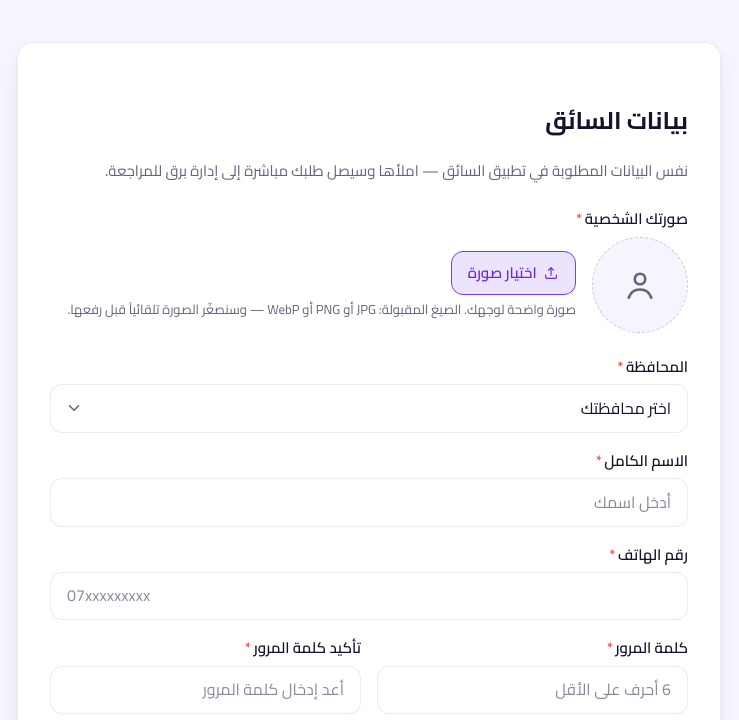
Test: the driver apply page › refuses to submit without a photo, and says so
(page scrolled)
Select "النجف" in the dropdown labelled "المحافظة*": point(369, 408) 50,384 -> 688,433
In the field labelled "الاسم الكامل*": point(369, 502) 50,478 -> 688,526, type "علي محمد"
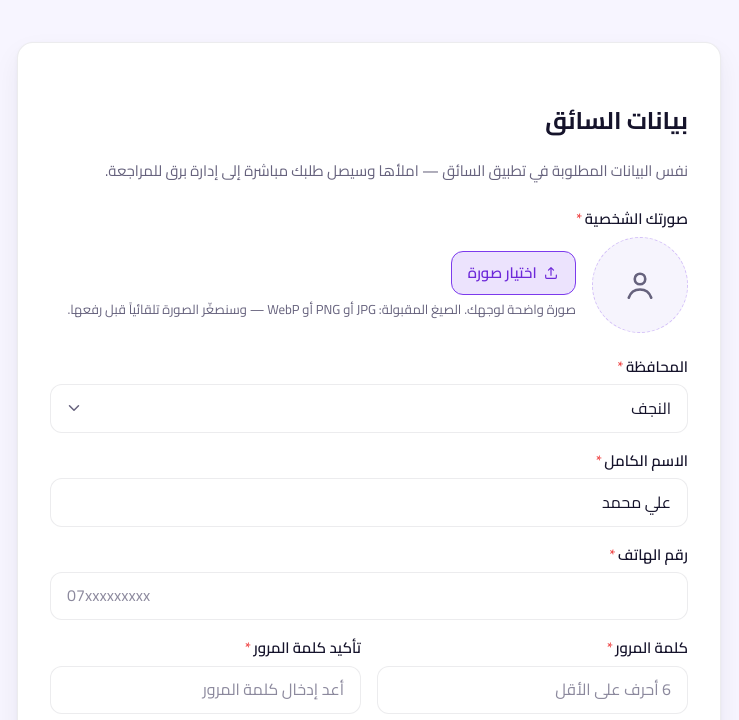
In the field labelled "رقم الهاتف*": point(369, 596) 50,572 -> 688,620, type "07712345678"
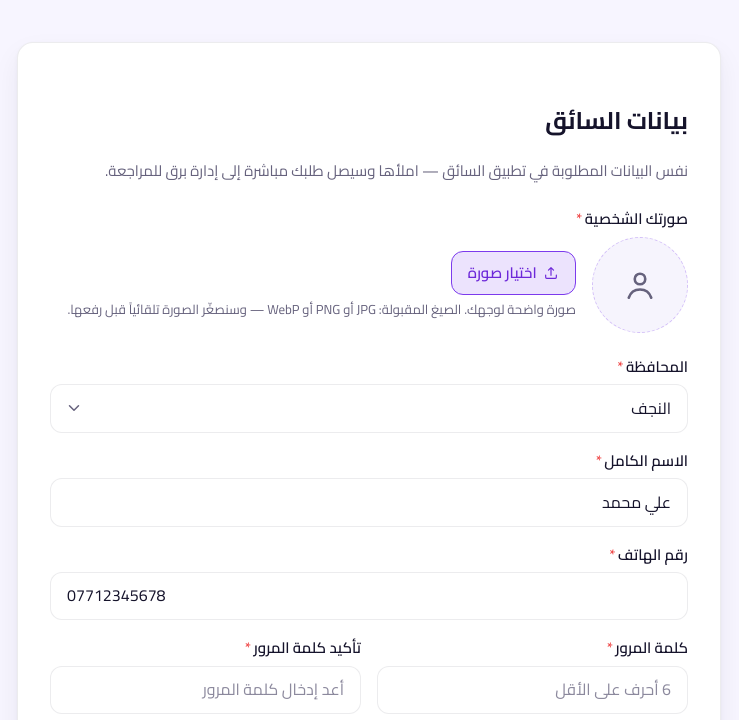
In the password field labelled "كلمة المرور*": point(532, 690) 377,666 -> 688,714, type "secret123"
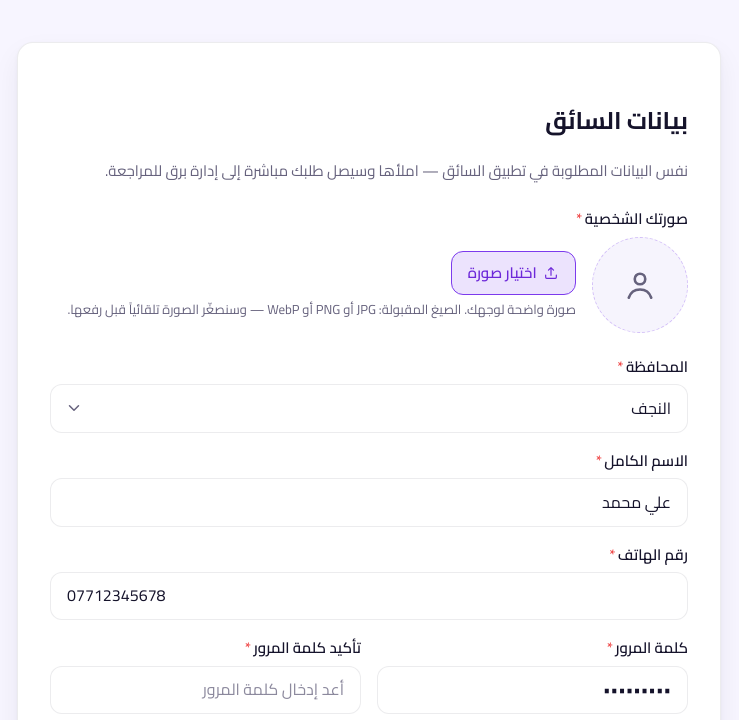
In the password field labelled "تأكيد كلمة المرور*": point(206, 690) 50,666 -> 361,714, type "secret123"
(page scrolled)
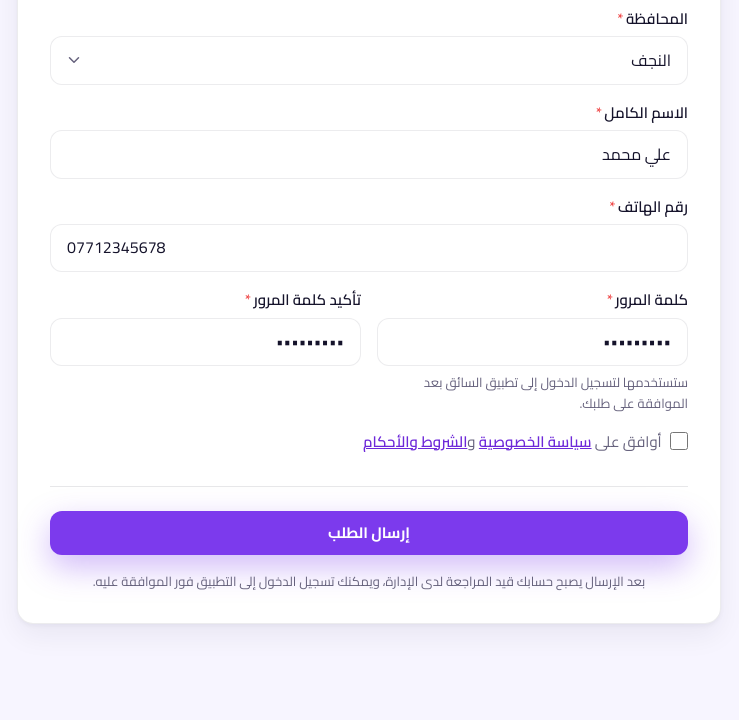
Click the checkbox: point(679, 441) 670,432 -> 688,450
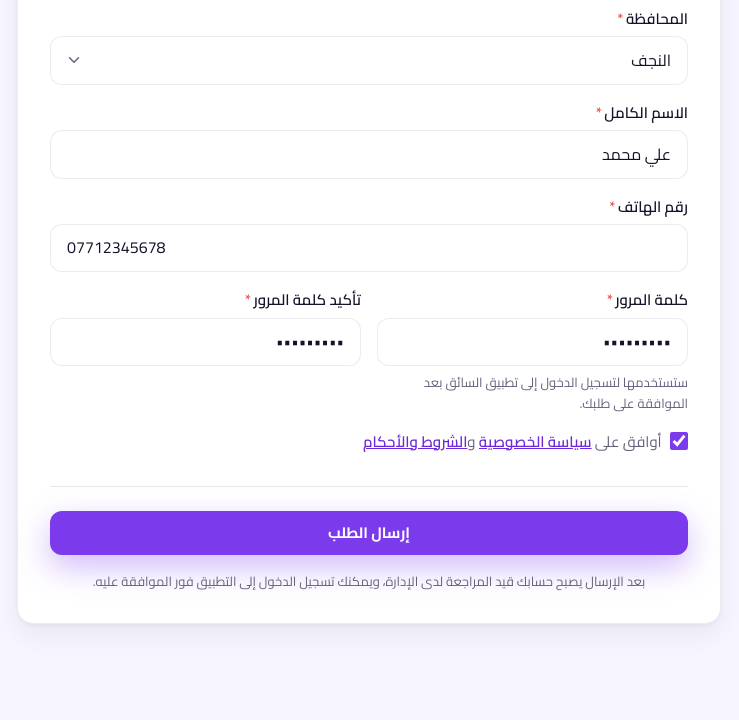
Click the button "إرسال الطلب": point(369, 533) 50,511 -> 688,555
(page scrolled)
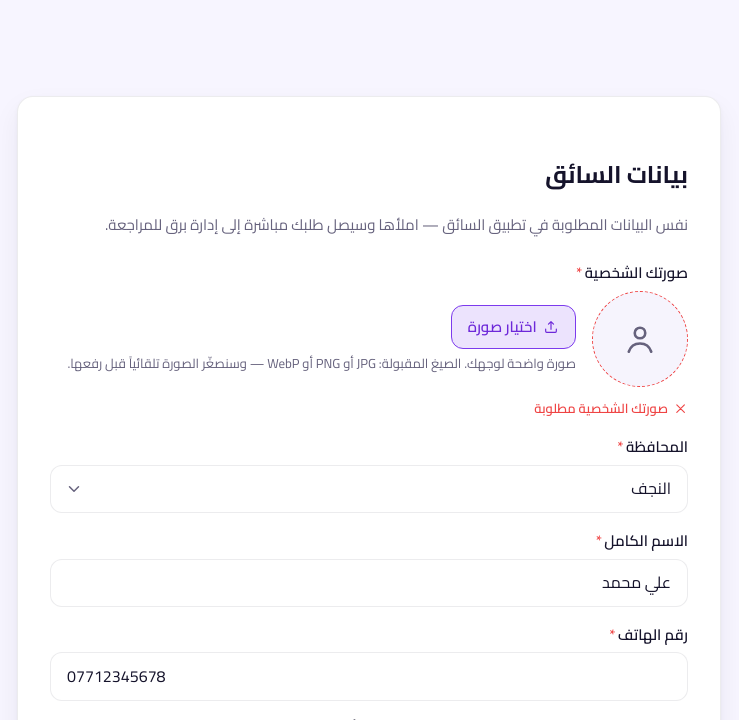
Now the text "صورتك الشخصية مطلوبة" is shown, box 534,396 -> 688,420
